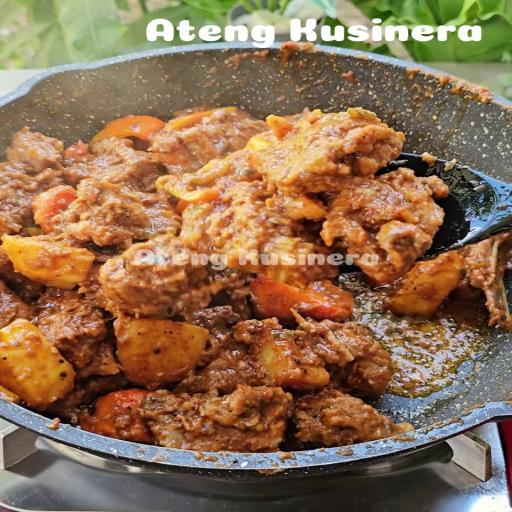pork caldereta: (0, 96, 511, 428)
